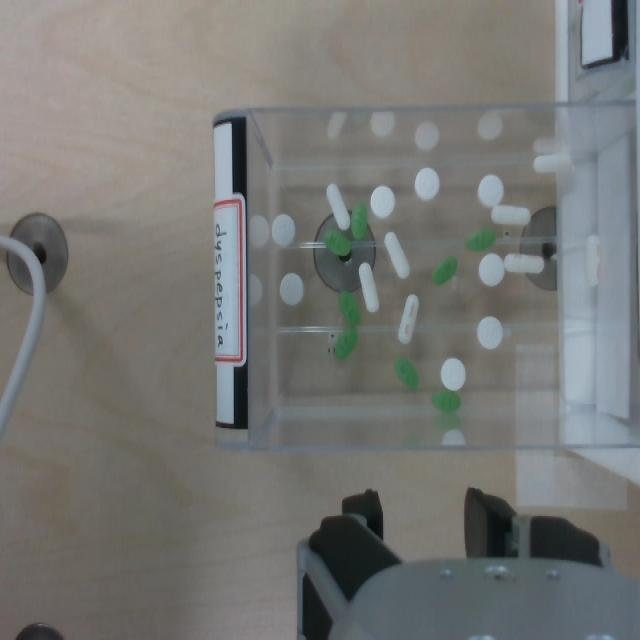magmil_tab: (476, 316, 503, 349), (477, 175, 503, 208), (440, 357, 465, 391), (478, 253, 504, 285), (414, 167, 439, 200), (370, 185, 394, 219), (271, 213, 295, 245), (279, 273, 303, 305)
medilacsenteric_tab: (384, 232, 409, 279), (326, 184, 349, 229), (398, 295, 419, 343), (359, 263, 379, 312), (504, 253, 544, 273), (491, 204, 529, 225), (533, 152, 572, 172), (586, 235, 601, 287)
nexilen_tab: (395, 357, 418, 389), (324, 229, 351, 256), (432, 256, 457, 284), (339, 292, 359, 327), (334, 329, 357, 359), (432, 389, 460, 413), (467, 228, 496, 251), (350, 203, 368, 240)
